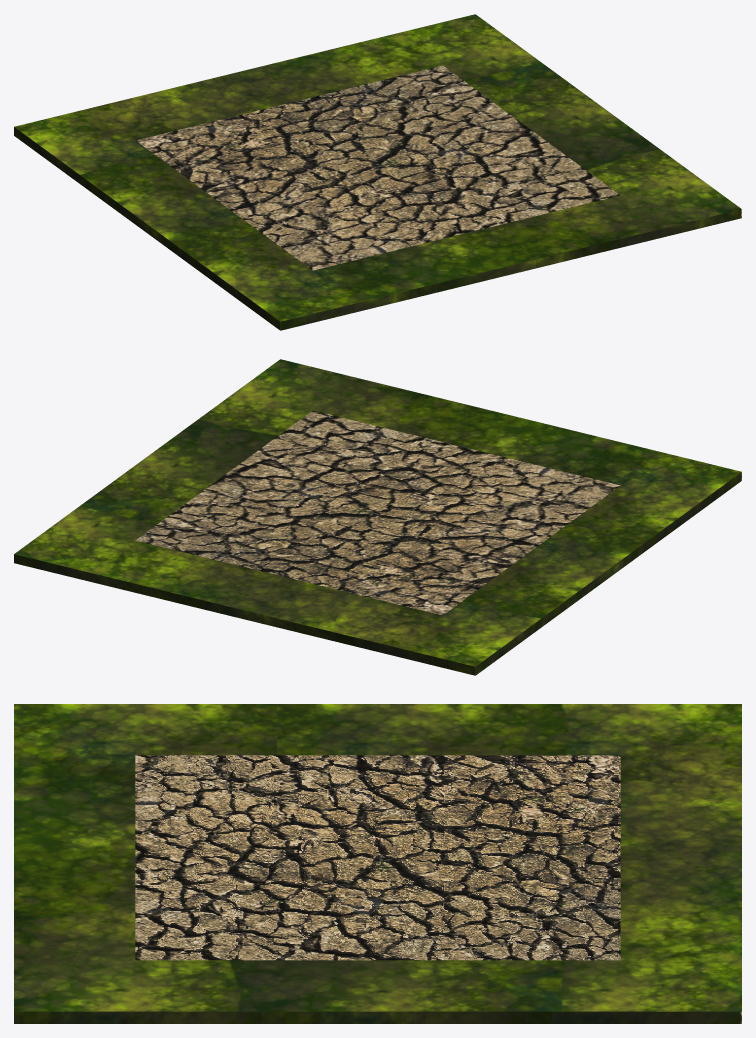
Rendered from Dry_Mud.FBX.
3 views of the same model, one above another, from view 1: azimuth 30°, elevation 25°; view 2: azimuth 150°, elevation 25°; view 3: azimuth 270°, elevation 25° (orthographic). The views are drawn at different scales.
Parts seen in each view (by area): view 1: Dry_Mud; view 2: Dry_Mud; view 3: Dry_Mud.
Part boxes in pixels (x1,y1,x2,y2): Dry_Mud: [14, 14, 741, 330]; Dry_Mud: [14, 359, 741, 675]; Dry_Mud: [14, 704, 741, 1023].
Bounding box in the file's own units: 40 × 0.7435 × 40.
Materials: 1 (1 with a texture image).
